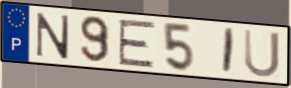5: (160, 22, 196, 73)
9: (78, 14, 111, 65)
E: (117, 18, 158, 69)
I: (220, 27, 237, 76)
N: (34, 11, 72, 61)
U: (242, 28, 282, 80)
